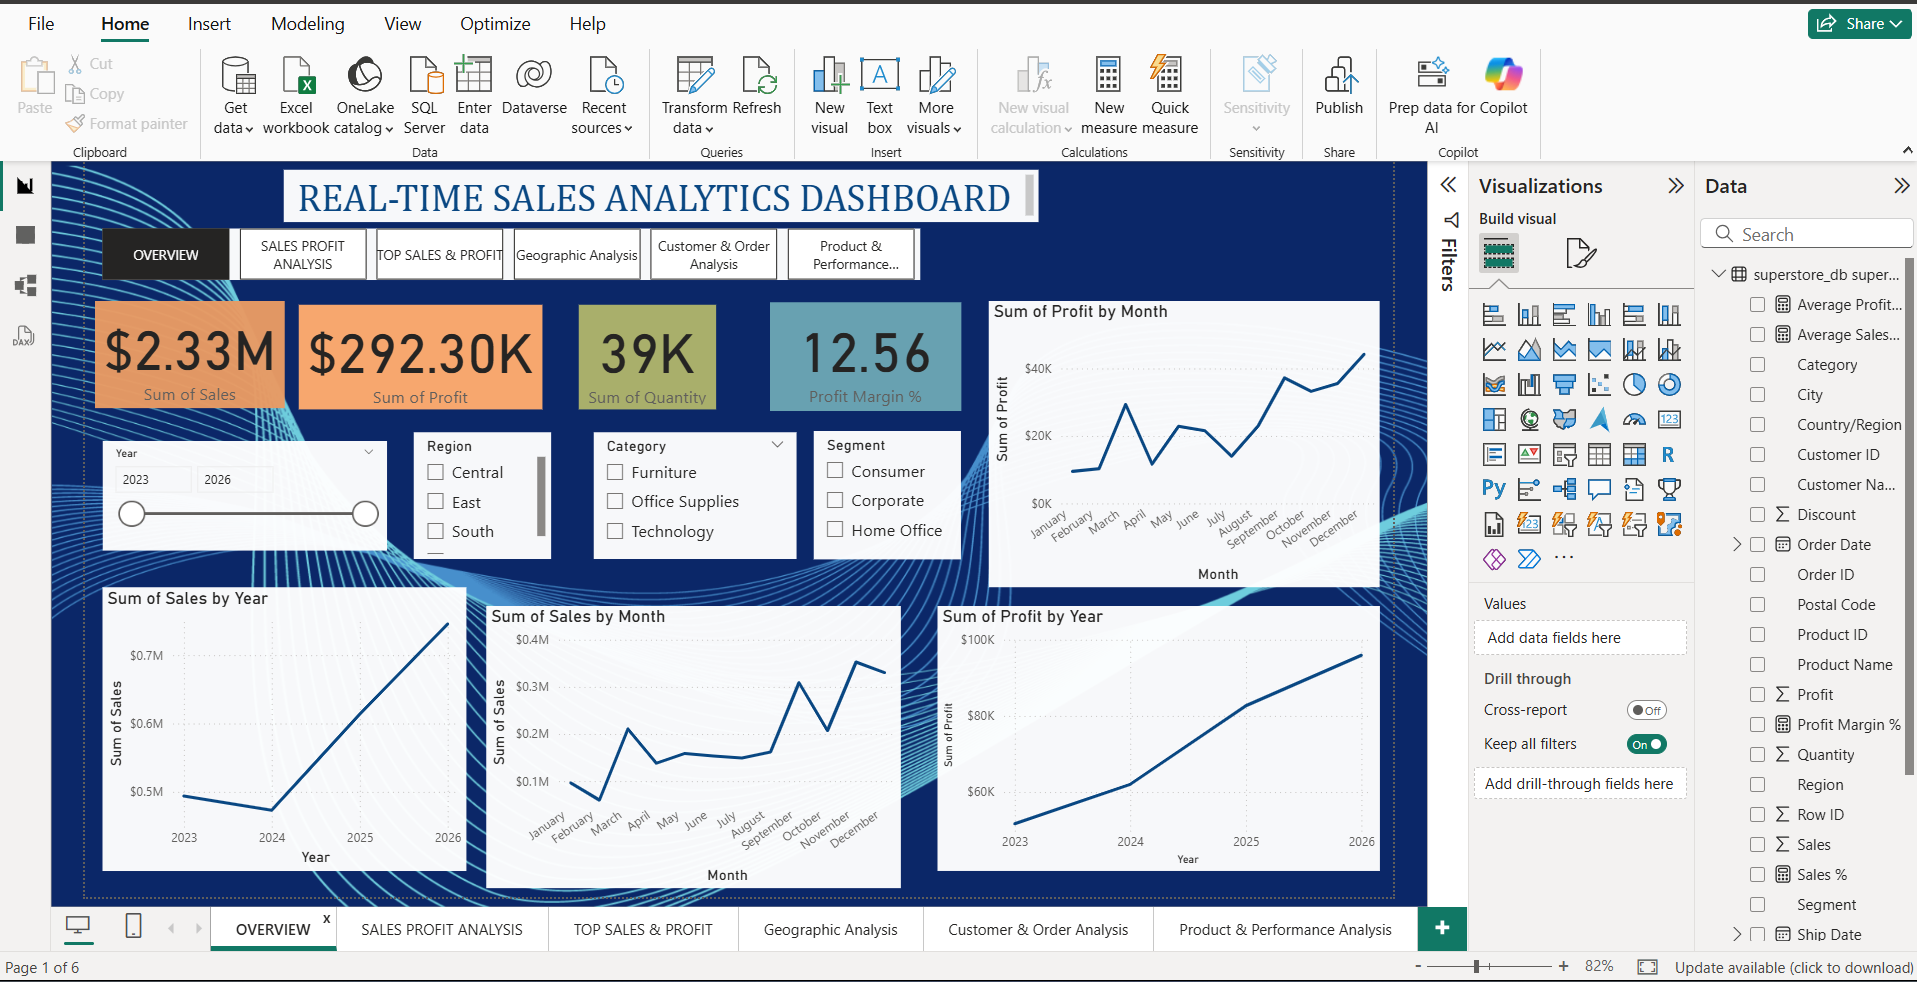

The dashboard page shown, as its layout file describes it:
{"tool":"powerbi","page":{"name":"OVERVIEW","canvas":[1280,720],"ordinal":0},"visuals":[{"type":"card","fields":{"Values":["Sum(superstore_db superstore.Sales)"]},"box":[9.8,137,185.9,105.2],"z":0},{"type":"card","fields":{"Values":["Sum(superstore_db superstore.Profit)"]},"box":[209.1,140.6,238.5,102.7],"z":1000},{"type":"card","fields":{"Values":["Sum(superstore_db superstore.Quantity)"]},"box":[483,140.6,134.5,102.7],"z":2000},{"type":"card","fields":{"Values":["superstore_db superstore.Profit Margin %"]},"box":[670.1,138.2,187.1,106.4],"z":3000},{"type":"slicer","fields":{"Values":["superstore_db superstore.Order Date.Variation.Date Hierarchy.Year"]},"box":[17.1,274.4,278,107.3],"z":4000},{"type":"slicer","fields":{"Values":["superstore_db superstore.Region"]},"box":[322,265.9,134.1,124.4],"z":5000},{"type":"slicer","fields":{"Values":["superstore_db superstore.Category"]},"box":[497.6,265.9,198.8,124.4],"z":6000},{"type":"slicer","fields":{"Values":["superstore_db superstore.Segment"]},"box":[713.4,264.6,143.9,125.6],"z":7000},{"type":"lineChart","fields":{"Y":["Sum(superstore_db superstore.Sales)"],"Category":["superstore_db superstore.Order Date.Variation.Date Hierarchy.Year","superstore_db superstore.Order Date.Variation.Date Hierarchy.Quarter","superstore_db superstore.Order Date.Variation.Date Hierarchy.Month","superstore_db superstore.Order Date.Variation.Date Hierarchy.Day"]},"box":[17.1,417,355.8,277.6],"z":8000},{"type":"lineChart","fields":{"Y":["Sum(superstore_db superstore.Sales)"],"Category":["superstore_db superstore.Order Date.Variation.Date Hierarchy.Month"]},"box":[392.5,435.3,406,276.4],"z":9000},{"type":"lineChart","fields":{"Y":["Sum(superstore_db superstore.Profit)"],"Category":["superstore_db superstore.Order Date.Variation.Date Hierarchy.Year","superstore_db superstore.Order Date.Variation.Date Hierarchy.Quarter","superstore_db superstore.Order Date.Variation.Date Hierarchy.Month","superstore_db superstore.Order Date.Variation.Date Hierarchy.Day"]},"box":[834,435.3,432.9,259.2],"z":10000},{"type":"lineChart","fields":{"Category":["superstore_db superstore.Order Date.Variation.Date Hierarchy.Month","superstore_db superstore.Order Date.Variation.Date Hierarchy.Day"],"Y":["Sum(superstore_db superstore.Profit)"]},"box":[884.1,137,382.7,280],"z":11000},{"type":"textbox","box":[194.4,8.6,738.6,51.4],"z":12000},{"type":"pageNavigator","box":[17.1,66,799.7,50.1],"z":13000}]}

Visuals, with their boxes on the page's 1280x720 design canvas (x1, y1, x2, y2). These are canvas units, not pixel positions in the 1917x982 screenshot, which may show the page scaled, cropped or inside an application window:
card - Sum(superstore_db superstore.Sales): [x1=10, y1=137, x2=196, y2=242]
card - Sum(superstore_db superstore.Profit): [x1=209, y1=141, x2=448, y2=243]
card - Sum(superstore_db superstore.Quantity): [x1=483, y1=141, x2=618, y2=243]
card - superstore_db superstore.Profit Margin %: [x1=670, y1=138, x2=857, y2=245]
slicer - superstore_db superstore.Order Date.Variation.Date Hierarchy.Year: [x1=17, y1=274, x2=295, y2=382]
slicer - superstore_db superstore.Region: [x1=322, y1=266, x2=456, y2=390]
slicer - superstore_db superstore.Category: [x1=498, y1=266, x2=696, y2=390]
slicer - superstore_db superstore.Segment: [x1=713, y1=265, x2=857, y2=390]
lineChart - Sum(superstore_db superstore.Sales) x superstore_db superstore.Order Date.Variation.Date Hierarchy.Year: [x1=17, y1=417, x2=373, y2=695]
lineChart - Sum(superstore_db superstore.Sales) x superstore_db superstore.Order Date.Variation.Date Hierarchy.Month: [x1=392, y1=435, x2=798, y2=712]
lineChart - Sum(superstore_db superstore.Profit) x superstore_db superstore.Order Date.Variation.Date Hierarchy.Year: [x1=834, y1=435, x2=1267, y2=694]
lineChart - superstore_db superstore.Order Date.Variation.Date Hierarchy.Month x superstore_db superstore.Order Date.Variation.Date Hierarchy.Day: [x1=884, y1=137, x2=1267, y2=417]
textbox: [x1=194, y1=9, x2=933, y2=60]
pageNavigator: [x1=17, y1=66, x2=817, y2=116]
